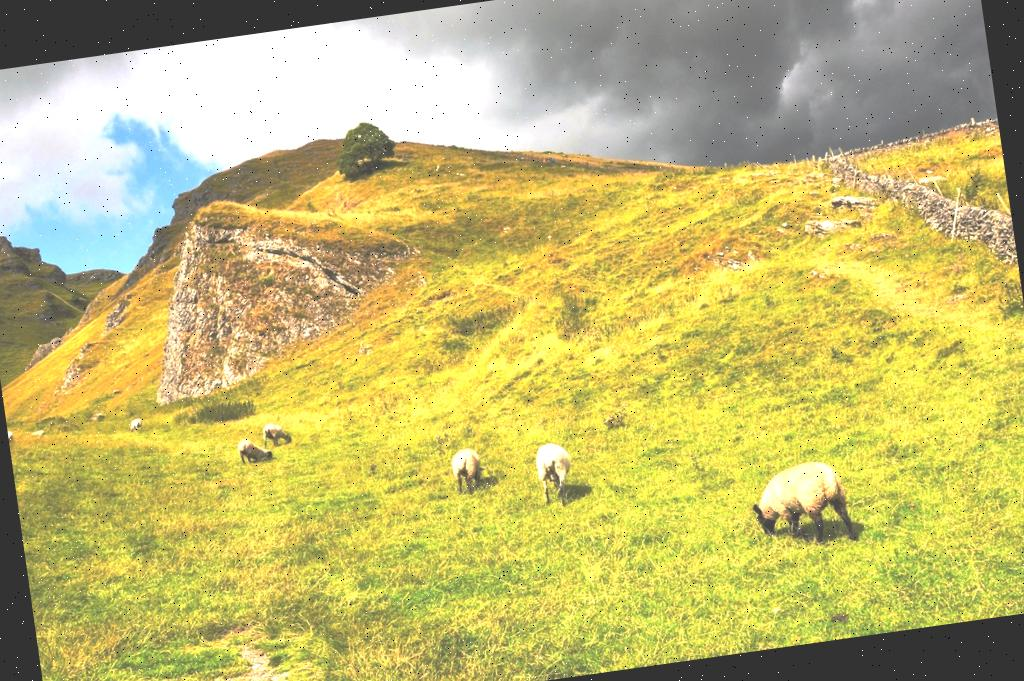Sheep: (742, 447, 860, 553), (530, 437, 576, 512), (450, 445, 486, 498), (234, 432, 274, 466), (261, 421, 293, 448)
